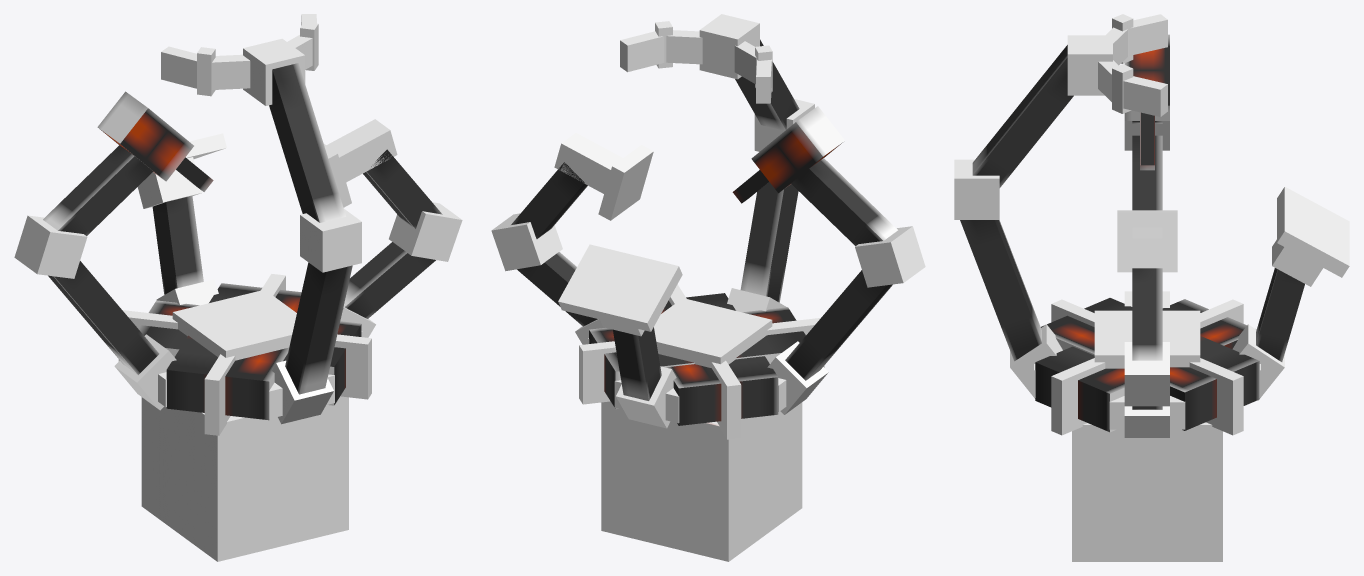
Rendered from tier7_workbench.obj.
The picture shows the model from 3 angles, left to right: view 1: azimuth 30°, elevation 25°; view 2: azimuth 150°, elevation 25°; view 3: azimuth 270°, elevation 25°; orthographic projection. The views are drawn at different scales.
Parts seen in each view (by area): view 1: Cube; view 2: Cube; view 3: Cube.
Part boxes in pixels (<box>): Cube: <box>14,14,462,561</box>; Cube: <box>491,14,925,561</box>; Cube: <box>954,14,1349,561</box>.
Bounding box in the file's own units: 3.23 × 3.55 × 2.62.
